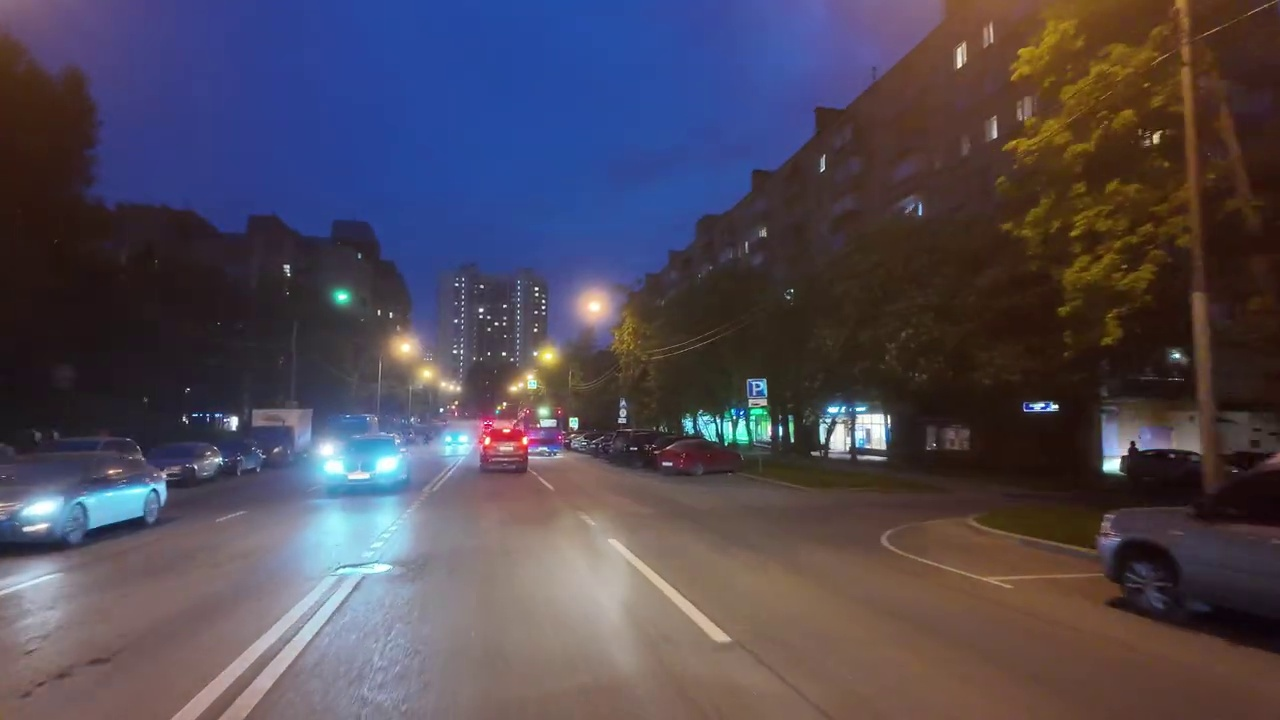acesa: (386, 332, 422, 366), (579, 290, 608, 319), (536, 344, 562, 370)
